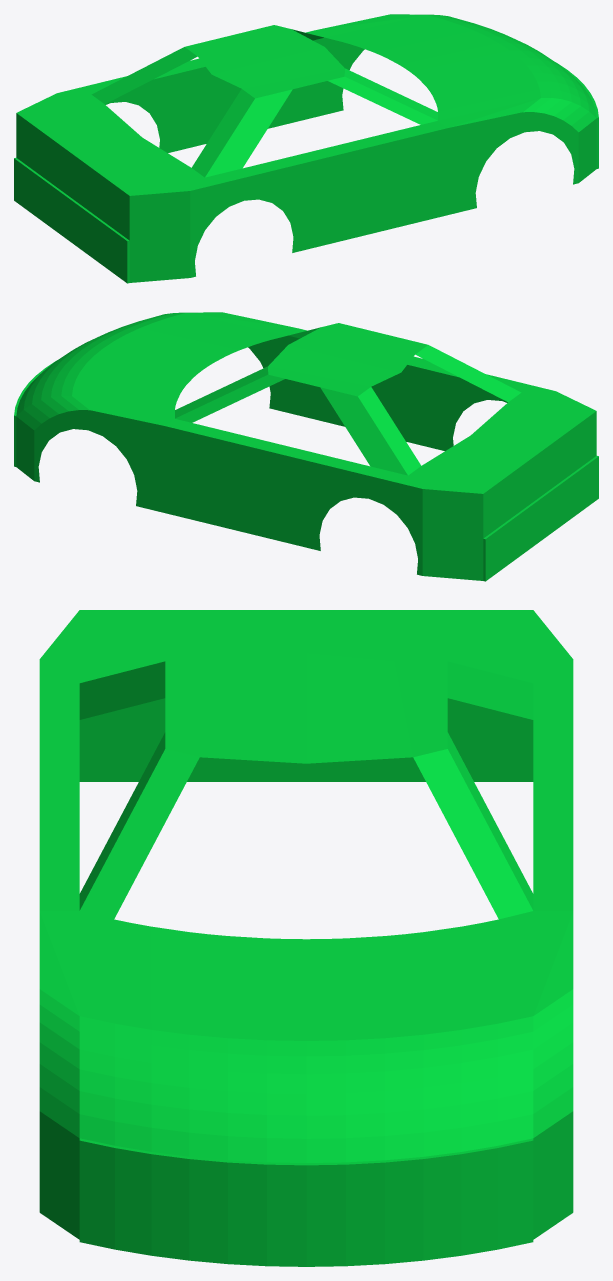
File: autonomos.dae
3 renders of one model, top to bottom at view 1: azimuth 30°, elevation 25°; view 2: azimuth 150°, elevation 25°; view 3: azimuth 270°, elevation 25°, orthographic. The views are drawn at different scales.
Parts seen in each view (by area): view 1: half_car (×2); view 2: half_car (×2); view 3: half_car (×2).
Part boxes in pixels (x1,y1,x2,y2): half_car (×2): (14,14,598,283); half_car (×2): (14,312,598,581); half_car (×2): (39,610,573,1266).
Bounding box in the file's own units: 16.93 × 7.87 × 4.33.
